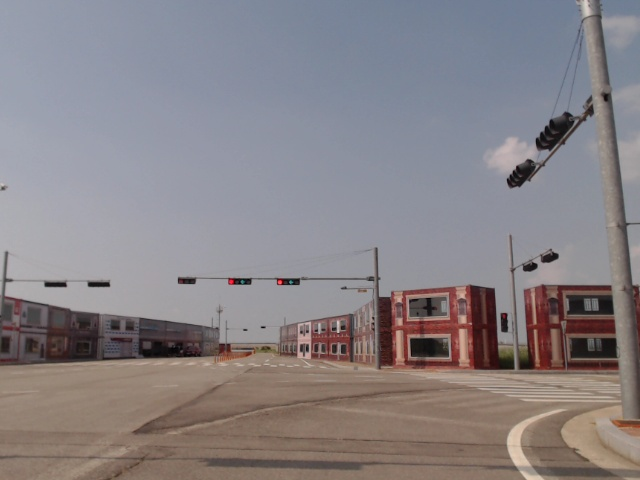left_green_4: (277, 277, 300, 285), (228, 279, 251, 286)
